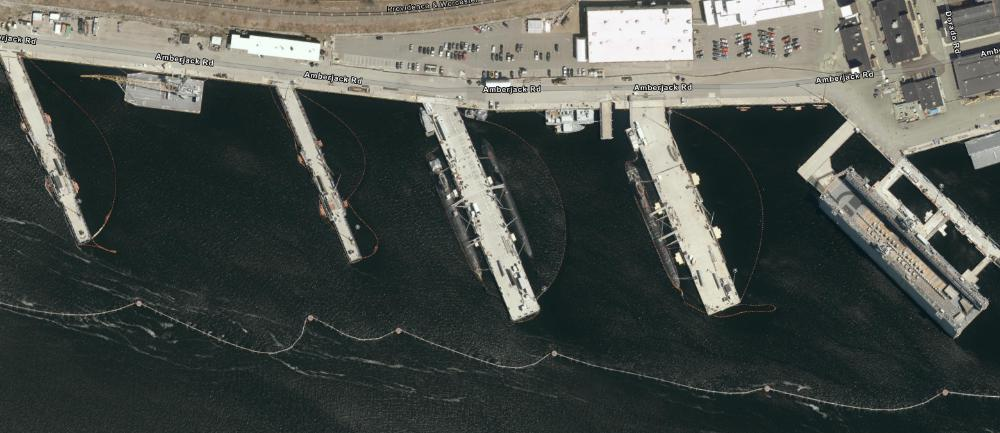submarine: (418, 145, 487, 291), (484, 132, 552, 265), (621, 156, 682, 298)
